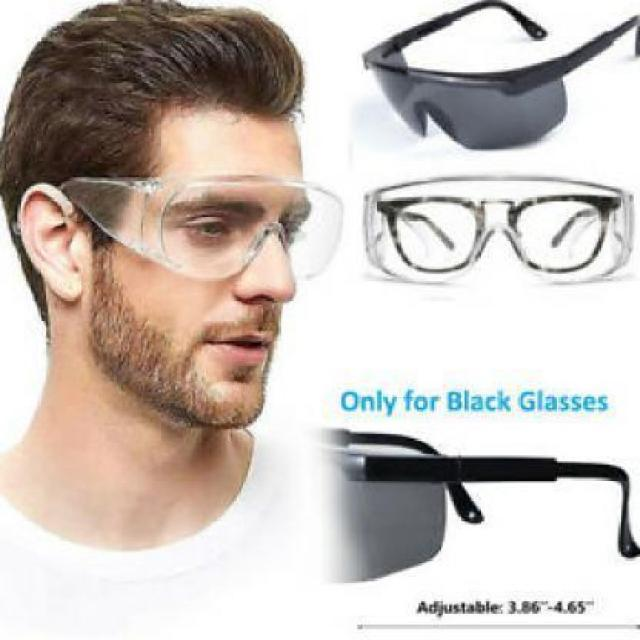Goggles: (25, 157, 351, 299)
